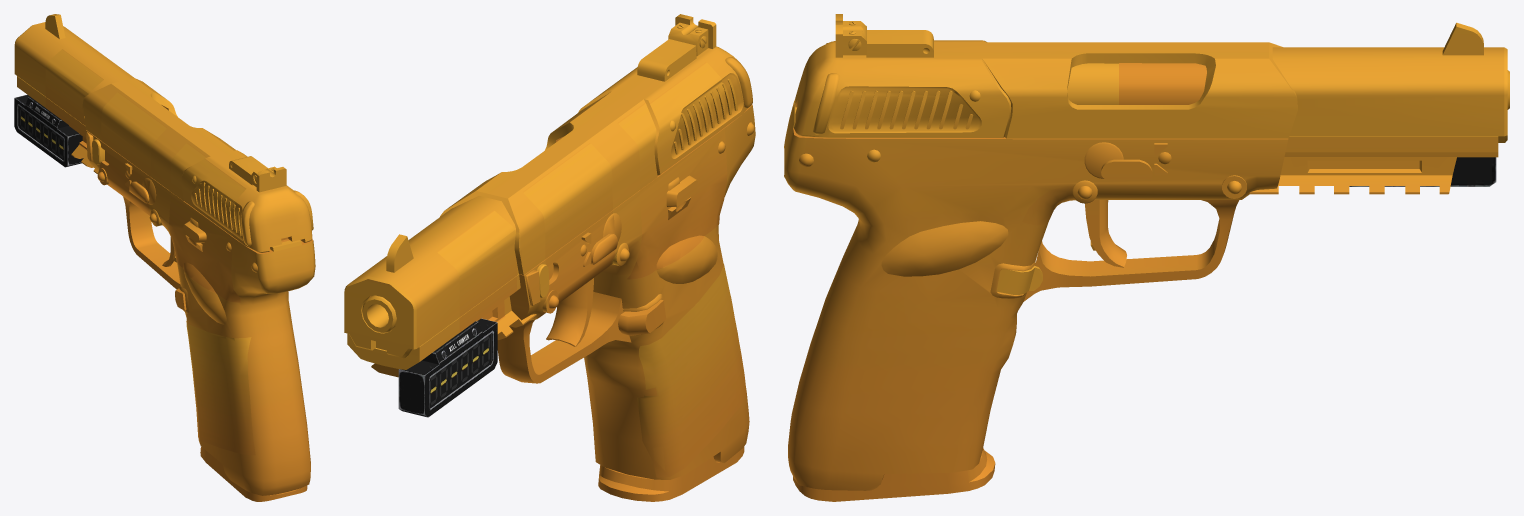
The picture shows the model from 3 angles, left to right: view 1: azimuth 30°, elevation 25°; view 2: azimuth 150°, elevation 25°; view 3: azimuth 270°, elevation 25°; orthographic projection. The views are drawn at different scales.
Visible parts, largest first — view 1: LOD_Template, Gunlock1, Sticker3, Sticker4, Sticker2, Sticker1, StatTrack.001, Magazine1; view 2: LOD_Template, Gunlock1, Sticker3, Sticker4, Sticker2, Sticker1, StatTrack.001, Magazine1; view 3: LOD_Template, Gunlock1, Magazine1, StatTrack.001.
Part boxes in pixels (box(x1,y1,x2,y2)): LOD_Template: box(17, 76, 315, 495); Gunlock1: box(14, 14, 313, 252); Sticker3: box(169, 143, 246, 302); Sticker4: box(186, 321, 255, 455); Sticker2: box(97, 92, 166, 215); Sticker1: box(45, 49, 103, 150); StatTrack.001: box(14, 94, 83, 167); Magazine1: box(200, 447, 307, 501); LOD_Template: box(347, 104, 755, 479); Gunlock1: box(344, 14, 752, 358); Sticker3: box(618, 62, 727, 279); Sticker4: box(637, 264, 746, 477); Sticker2: box(523, 143, 617, 317); Sticker1: box(437, 210, 521, 332); StatTrack.001: box(398, 318, 497, 417); Magazine1: box(598, 302, 744, 501); LOD_Template: box(784, 63, 1509, 490); Gunlock1: box(794, 14, 1507, 142); Magazine1: box(793, 448, 995, 501); StatTrack.001: box(1349, 157, 1496, 186).
Size of the model in its own units: 0.0754 by 0.3095 by 0.4432.
6 materials, 6 textured.
